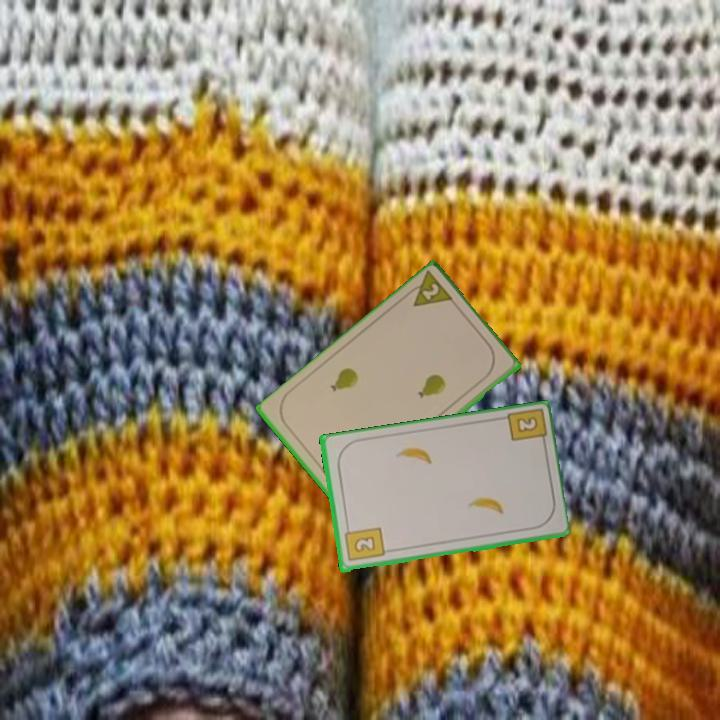2b: (502, 407, 547, 450), (341, 523, 387, 564)
2p: (401, 269, 457, 310)
